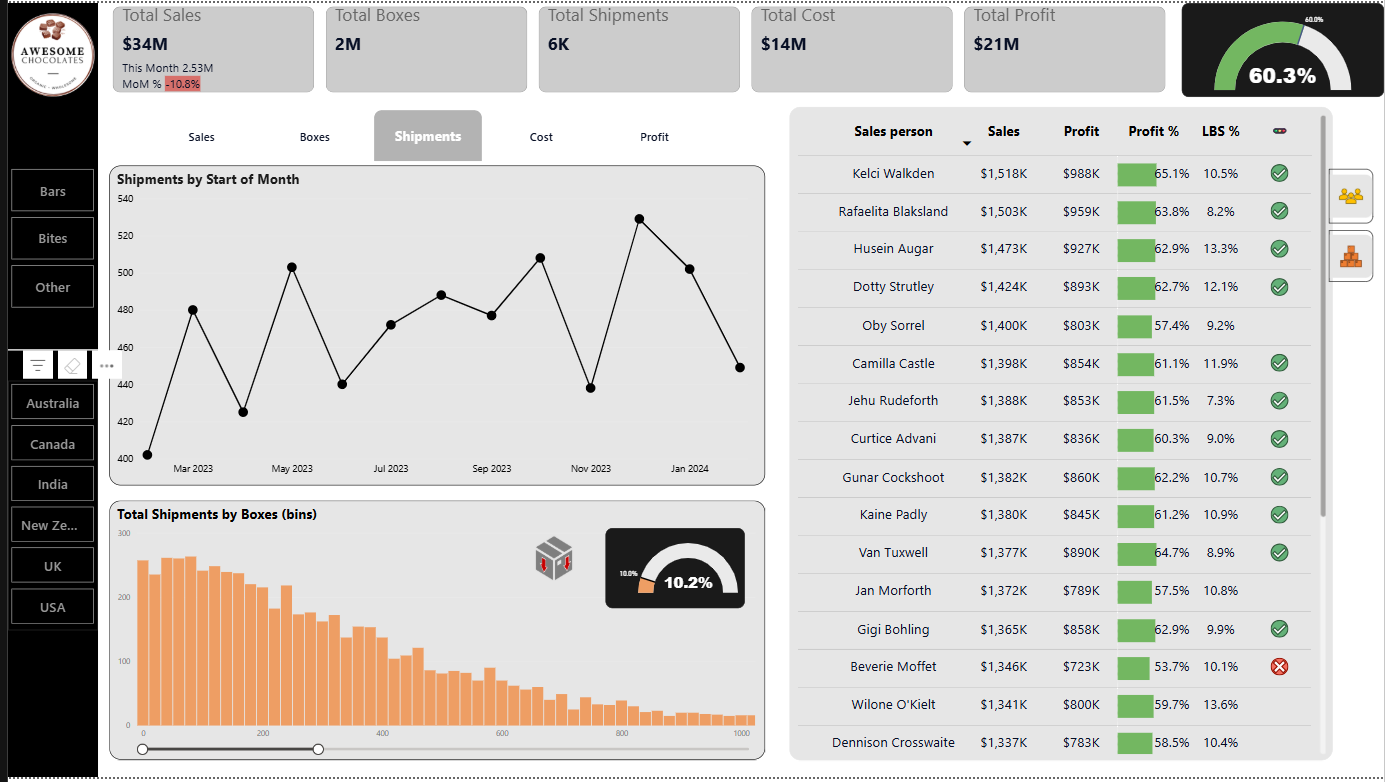

This screenshot's page, from the dashboard's own definition file:
{"tool":"powerbi","page":{"name":"Sales Report","canvas":[1920,1080],"ordinal":2},"visuals":[{"type":"shape","box":[0,0,125.8,1080.3],"z":0},{"type":"cardVisual","fields":{"Data":["_measures.Total Sales","_measures.Total Boxes","_measures.Total Shipments","_measures.Total Cost","_measures.Total Profit"]},"box":[141.3,0,1479.1,130.8],"z":1000},{"type":"gauge","fields":{"Y":["_measures.Profit %"]},"box":[1637.8,0,282.6,130.8],"z":2000},{"type":"image","box":[0,0,125.8,144.7],"z":3000},{"type":"lineChart","fields":{"Y":["_measures.Total Shipments"],"Category":["calendar.Start of Month"]},"box":[141.3,227.4,914.9,446.3],"z":4000},{"type":"advancedSlicerVisual","fields":{"Values":["Measure Selector.Measure Selector"]},"box":[190.1,144.8,793.6,82],"z":5000},{"type":"columnChart","fields":{"Category":["shipments.Boxes (bins)"],"Y":["_measures.Total Shipments"]},"box":[141.3,694.4,914.9,361.8],"z":6000},{"type":"gauge","fields":{"Y":["_measures.LBS %"]},"box":[833.3,733.3,194.1,111.8],"z":7000},{"type":"image","box":[709.8,733.3,103.9,84.3],"z":8000},{"type":"tableEx","title":"People Details","fields":{"Values":["people.Picture","people.Sales person","_measures.Total Sales","_measures.Total Profit","_measures.Profit %","_measures.LBS %","_measures.Profit Target Indicator"]},"box":[1090.1,144.8,758.7,912.2],"z":9000},{"type":"image","title":"People Icon","box":[1838.4,226.7,71.5,85.5],"z":11000},{"type":"image","title":"Product Icon","box":[1838.4,312.2,71.5,82],"z":12000},{"type":"advancedSlicerVisual","fields":{"Values":["products.Category"]},"box":[0,226.7,125.6,204.1],"z":13000},{"type":"advancedSlicerVisual","fields":{"Values":["locations.Geo"]},"box":[0,526.7,125.6,348.8],"z":14000},{"type":"shape","box":[0,465.7,125.6,36.6],"z":15000}]}

Visuals, with their boxes on the page's 1920x1080 design canvas (x1, y1, x2, y2). These are canvas units, not pixel positions in the 1390x782 screenshot, which may show the page scaled, cropped or inside an application window:
shape: 0/0/126/1080
cardVisual - _measures.Total Sales x _measures.Total Boxes: 141/0/1620/131
gauge - _measures.Profit %: 1638/0/1920/131
image: 0/0/126/145
lineChart - _measures.Total Shipments x calendar.Start of Month: 141/227/1056/674
advancedSlicerVisual - Measure Selector.Measure Selector: 190/145/984/227
columnChart - shipments.Boxes (bins) x _measures.Total Shipments: 141/694/1056/1056
gauge - _measures.LBS %: 833/733/1027/845
image: 710/733/814/818
"People Details" tableEx: 1090/145/1849/1057
"People Icon" image: 1838/227/1910/312
"Product Icon" image: 1838/312/1910/394
advancedSlicerVisual - products.Category: 0/227/126/431
advancedSlicerVisual - locations.Geo: 0/527/126/876
shape: 0/466/126/502
